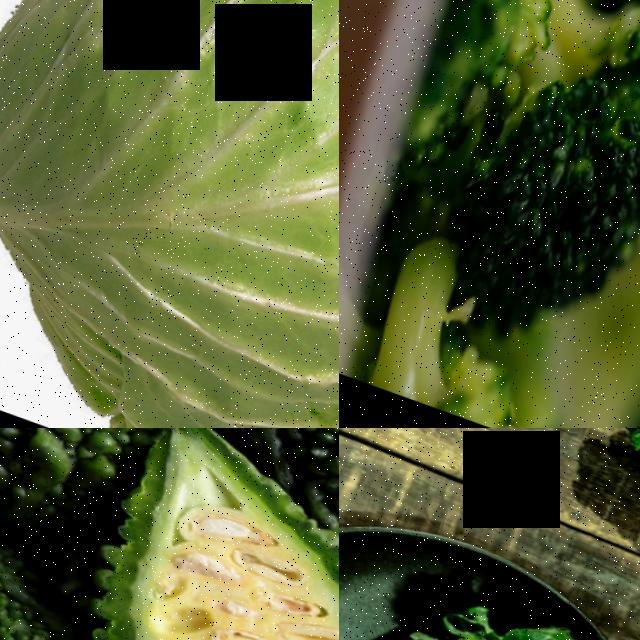bitter gourd: (0, 460, 339, 640), (192, 428, 339, 614)
broccoli: (429, 0, 640, 350), (339, 542, 640, 640), (492, 428, 640, 564)
cabbage: (0, 0, 339, 428)
